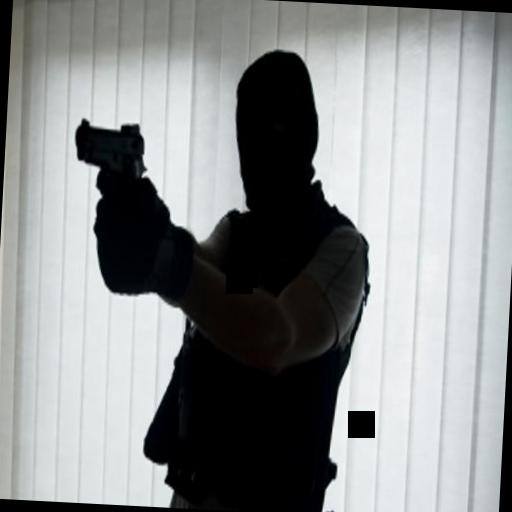Handgun: (70, 110, 150, 186)
